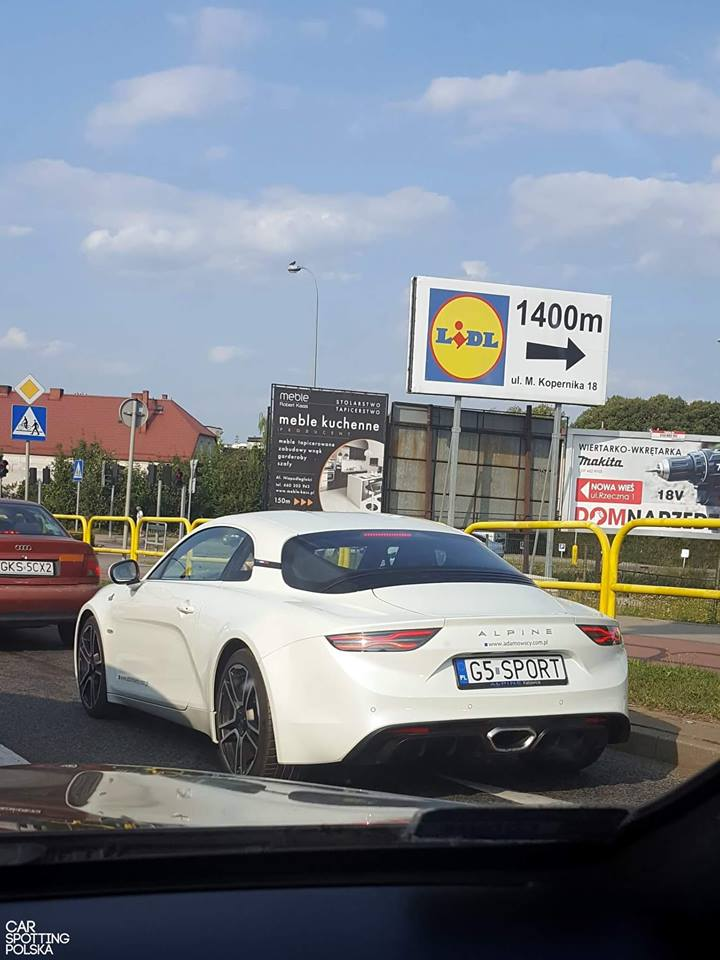number_plate: (456, 652, 570, 687)
